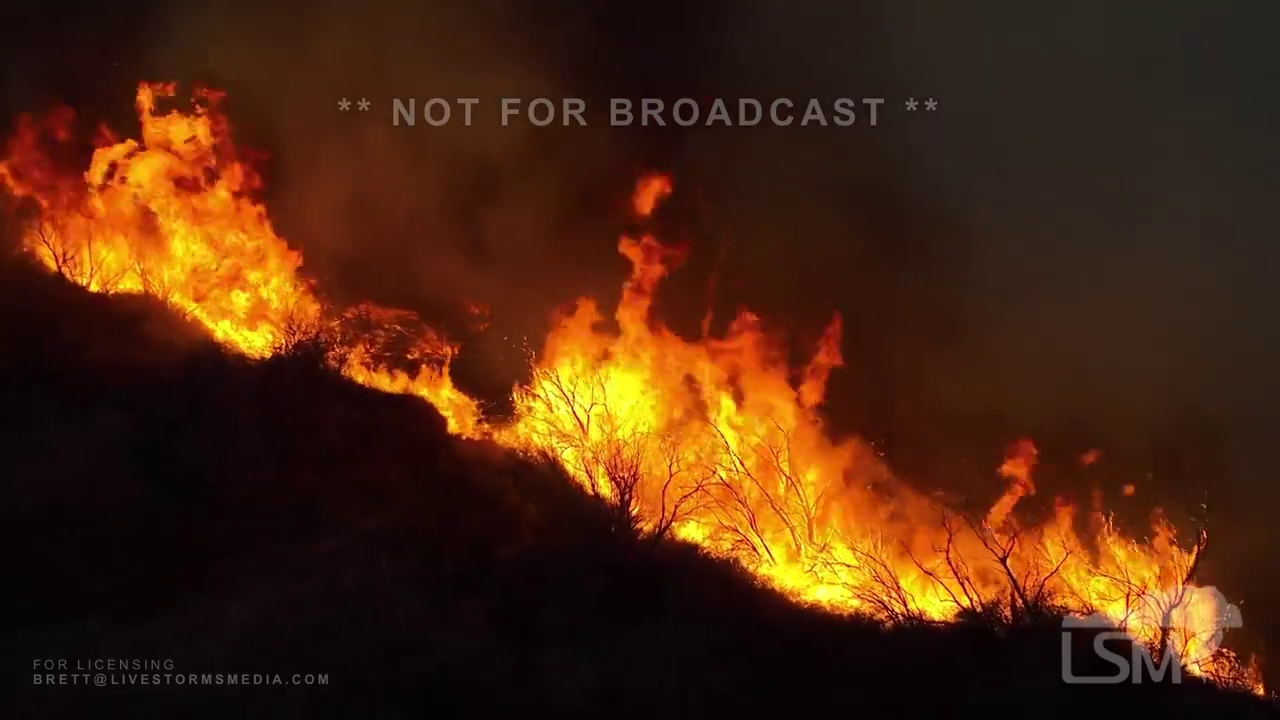forest_fire: (0, 84, 1263, 692), (632, 175, 671, 227)
